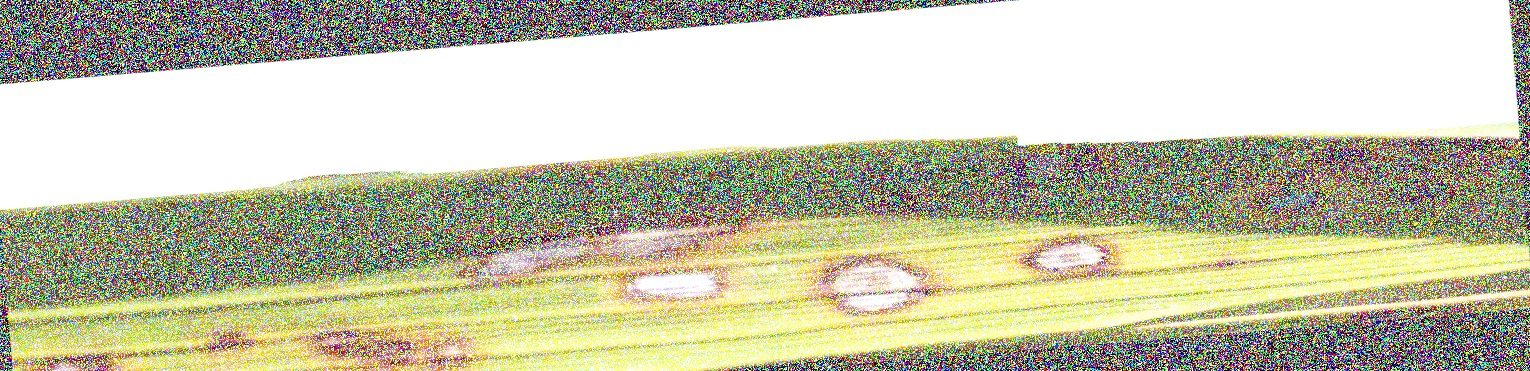Bacterial_Leaf_Blight: (450, 222, 750, 308), (303, 307, 492, 371), (821, 246, 961, 328), (1334, 284, 1477, 340), (1011, 220, 1138, 282), (1223, 159, 1341, 217), (193, 322, 262, 365), (29, 343, 127, 371)
